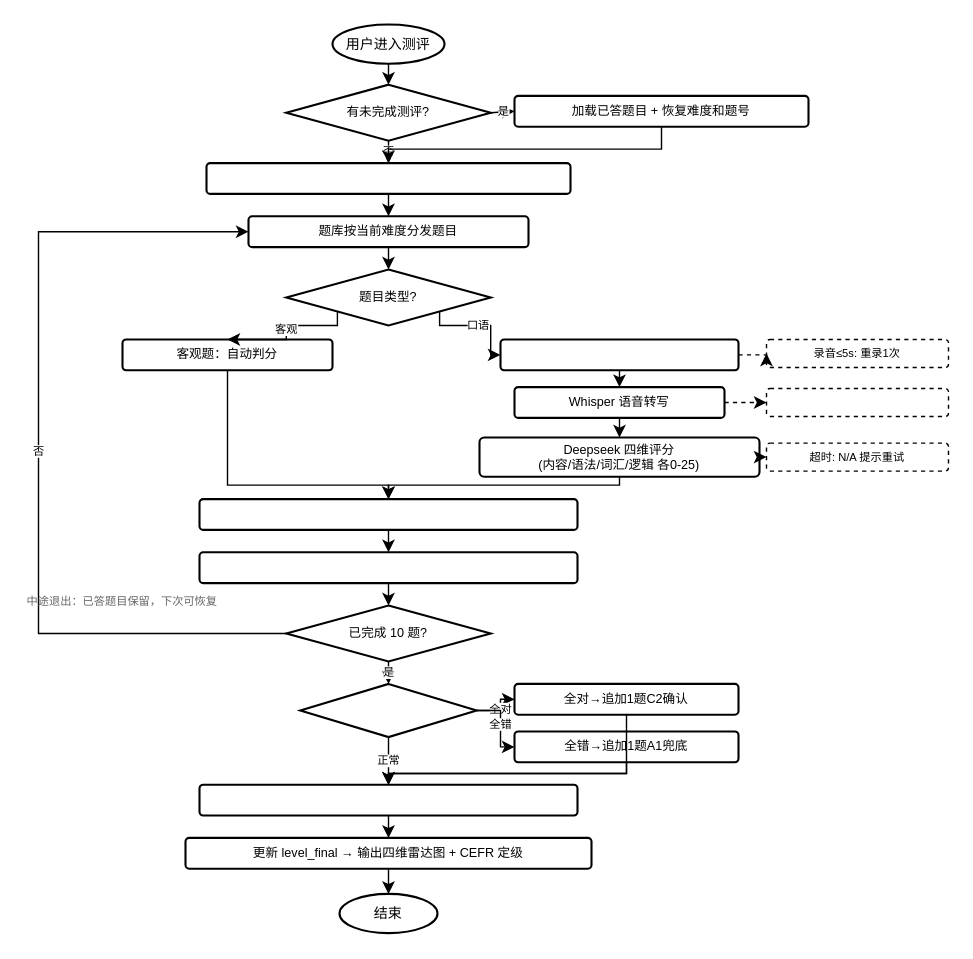
This 973x959 diagram has some shape labels left out. Each missing label, with the centre of its shape:
保存本题结果 (题目ID+答案+难度+题号): [388,567]
全对/全错?: [388,710]
初始化难度 = 自评等级 → CEFR 起点: [388,177]
前端录音 (WAV, ≤30s): [619,354]
综合定级 (A1 / A2 / B1 / B2 / C1 / C2): [388,799]
自适应调整：答对 +0.5 级 / 答错 -0.5 级: [388,513]
转写失败: 500重录: [856,401]
